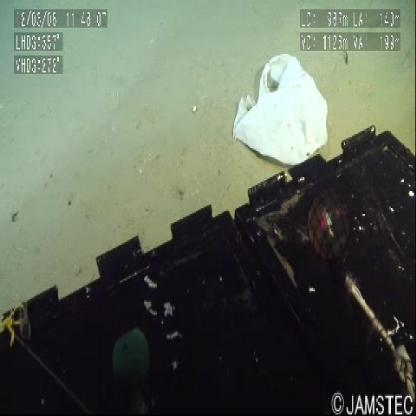Rov: (1, 106, 416, 416)
Rác: (228, 38, 347, 184)
